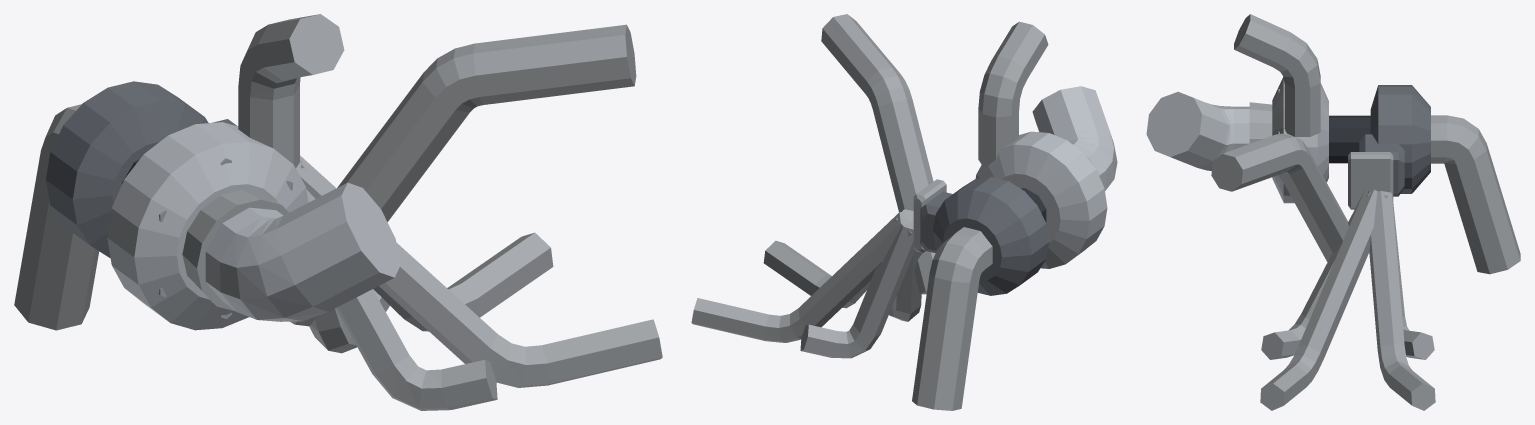
Rendered from kaze_gt_turbo_kit.glb.
The picture shows the model from 3 angles, left to right: view 1: azimuth 30°, elevation 25°; view 2: azimuth 150°, elevation 25°; view 3: azimuth 270°, elevation 25°; orthographic projection. The views are drawn at different scales.
Visible parts, largest first — view 1: model; view 2: model; view 3: model.
Boxes of the visible parts, <box> form: model: <box>14,14,662,410</box>; model: <box>691,14,1117,410</box>; model: <box>1146,14,1520,410</box>.
Bounding box in the file's own units: 0.5026 × 0.4257 × 0.4953.
2 materials, 1 textured.
